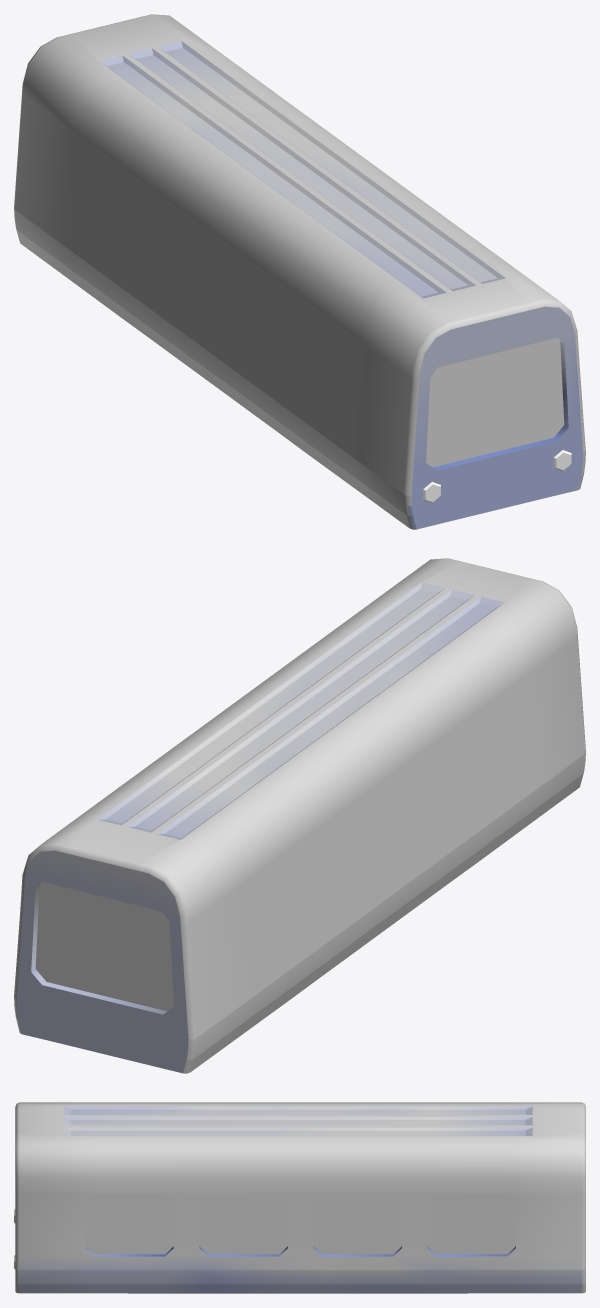
The model's file is wagon-grey.fbx.
The picture shows the model from 3 angles, top to bottom: view 1: azimuth 30°, elevation 25°; view 2: azimuth 150°, elevation 25°; view 3: azimuth 270°, elevation 25°; orthographic projection. The views are drawn at different scales.
Parts seen in each view (by area): view 1: wagon-cargo; view 2: wagon-cargo; view 3: wagon-cargo.
Boxes of the visible parts, x1,y1,x2,y2 form: wagon-cargo: (14, 14, 585, 529); wagon-cargo: (14, 558, 585, 1073); wagon-cargo: (14, 1102, 585, 1293).
Bounding box in the file's own units: 77.31 × 79.84 × 291.
